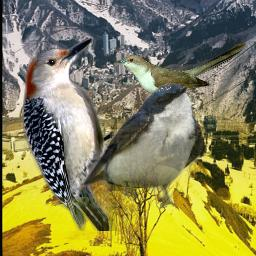Cuckoo: (114, 42, 246, 103)
Swallow: (80, 83, 206, 209)
Woodpecker: (23, 38, 117, 231)
